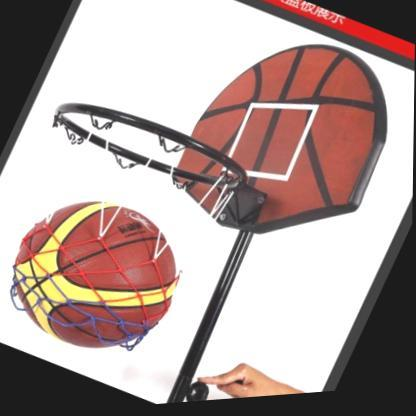basketball: (0, 170, 204, 384)
